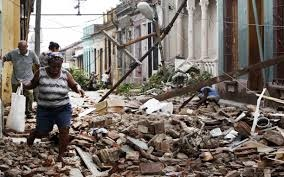rubble: (79, 94, 283, 177)
